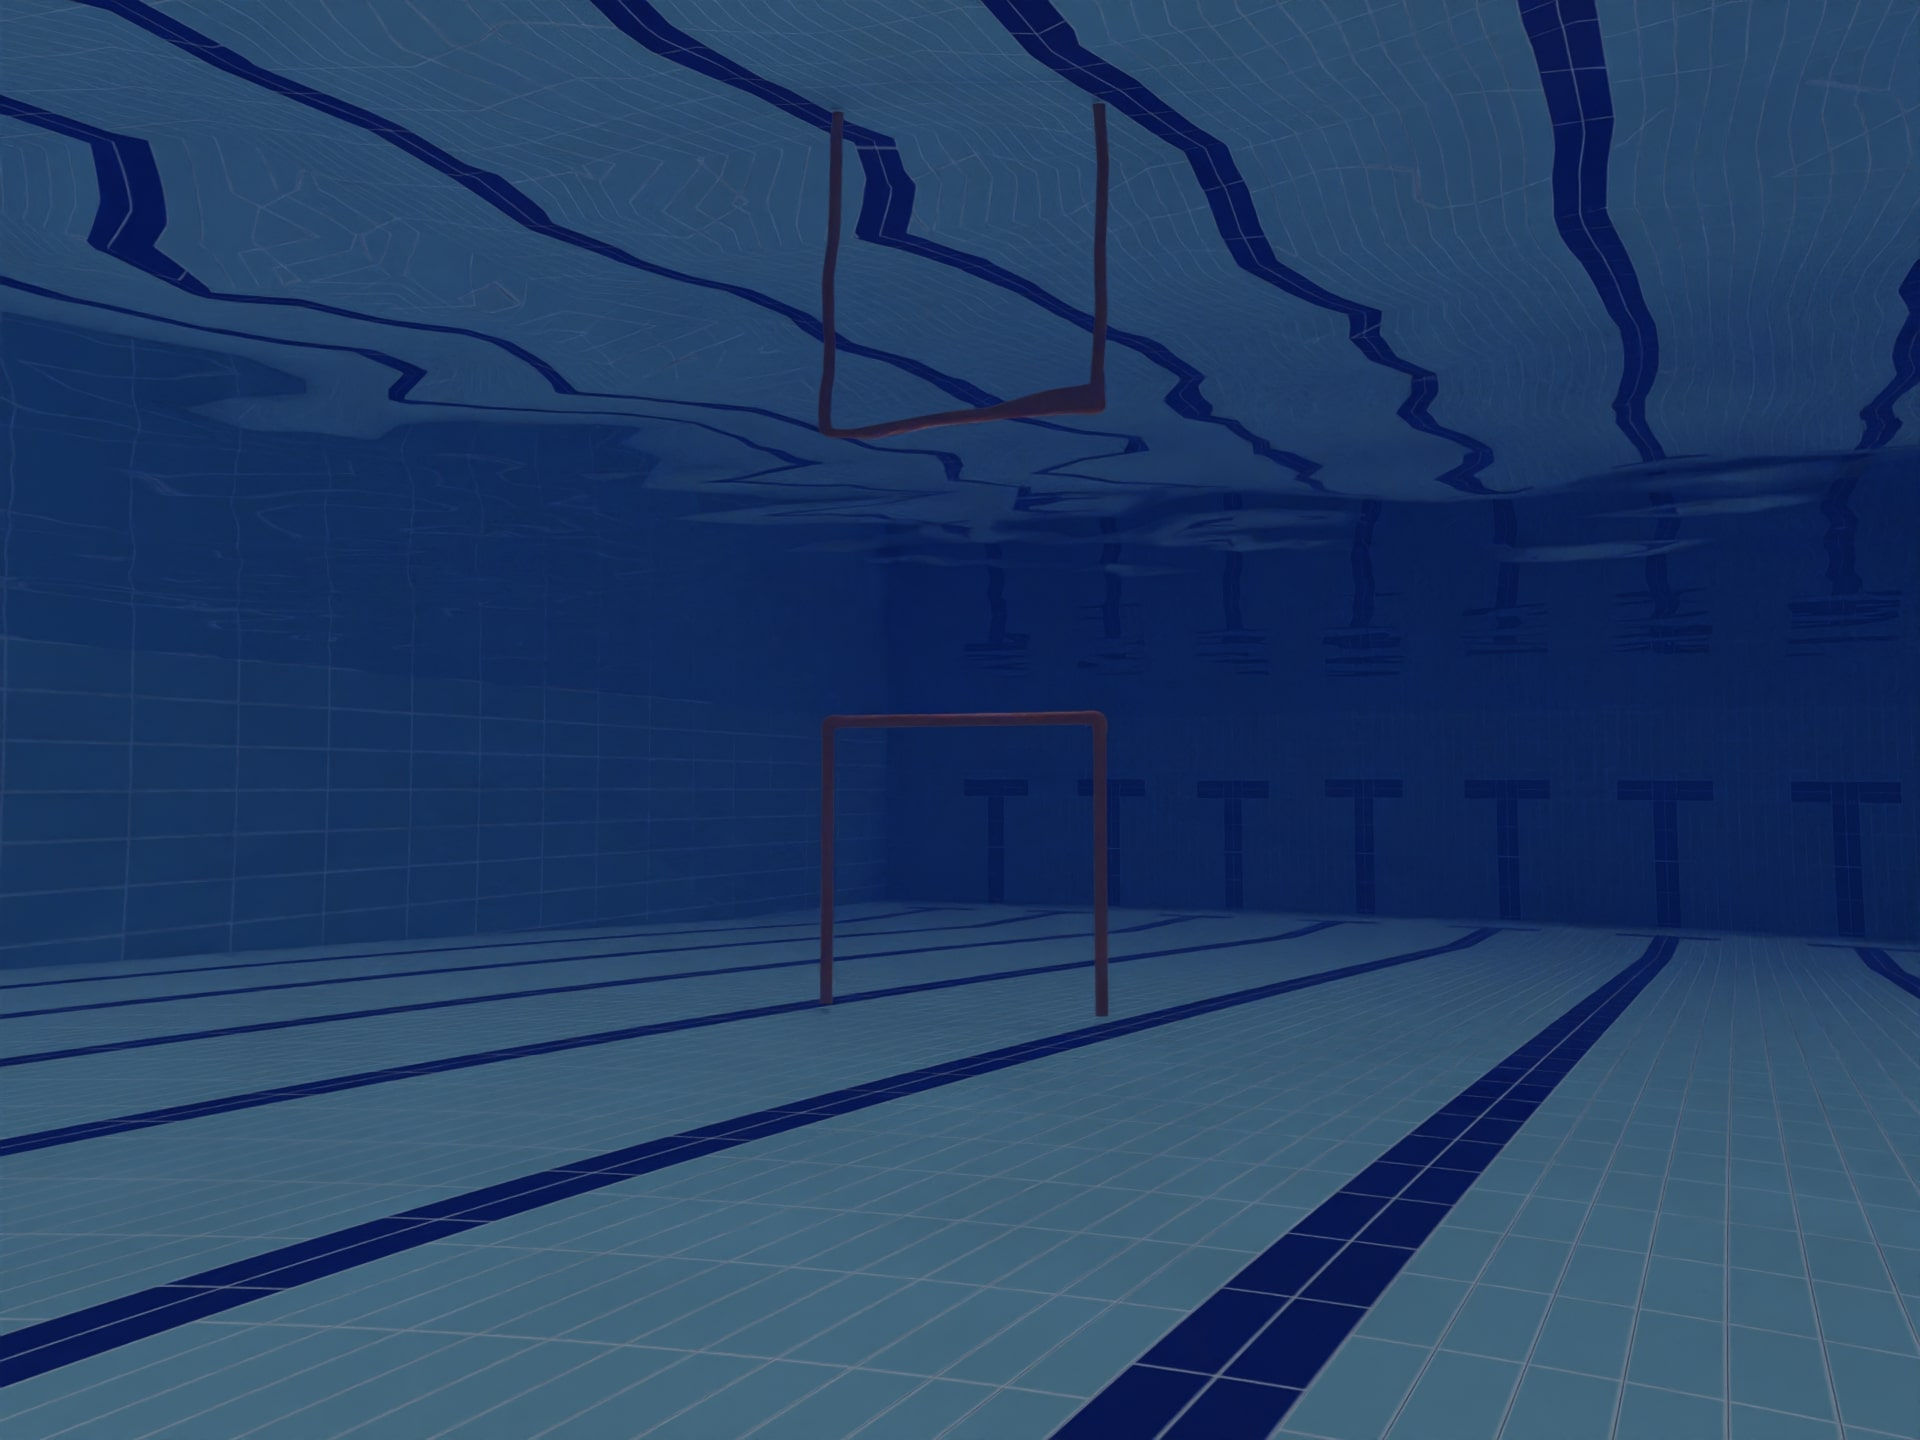gate: (770, 664, 1212, 1053)
